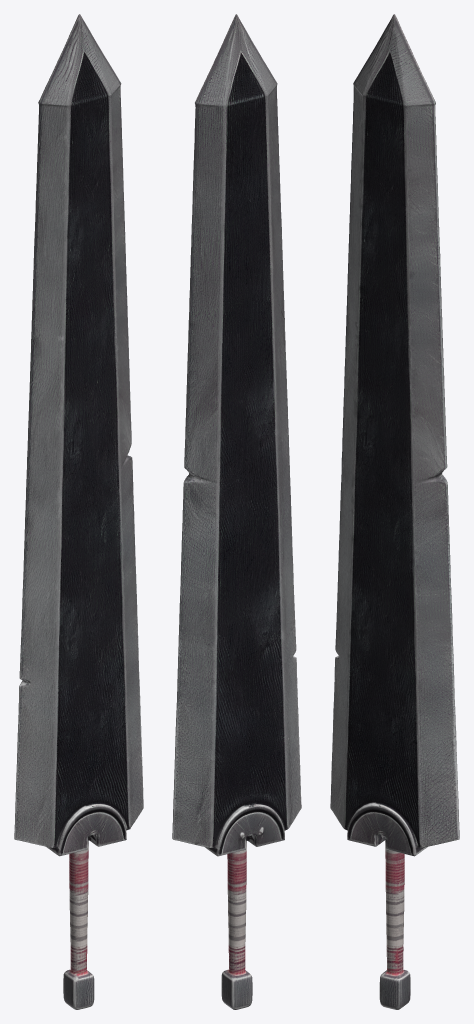
File: EpeeRoi.fbx
3 views of the same model, side by side, from view 1: azimuth 30°, elevation 25°; view 2: azimuth 210°, elevation 25°; view 3: azimuth 330°, elevation 25° (orthographic).
Visible parts, largest first — view 1: Mesh_0; view 2: Mesh_0; view 3: Mesh_0.
Part boxes in pixels (x1,y1,x2,y2): Mesh_0: [14, 14, 143, 1009]; Mesh_0: [172, 14, 301, 1009]; Mesh_0: [330, 14, 459, 1009].
Bounding box in the file's own units: 25.83 × 190 × 10.42.
1 material, 1 textured.
